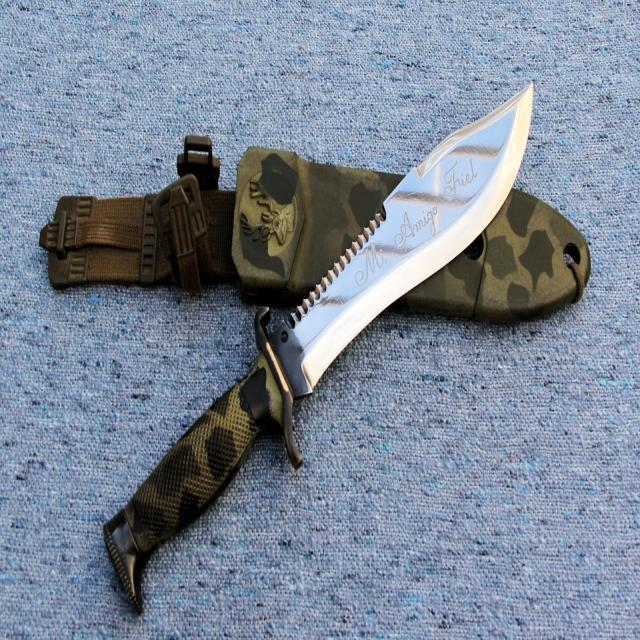knife: (93, 79, 548, 620)
